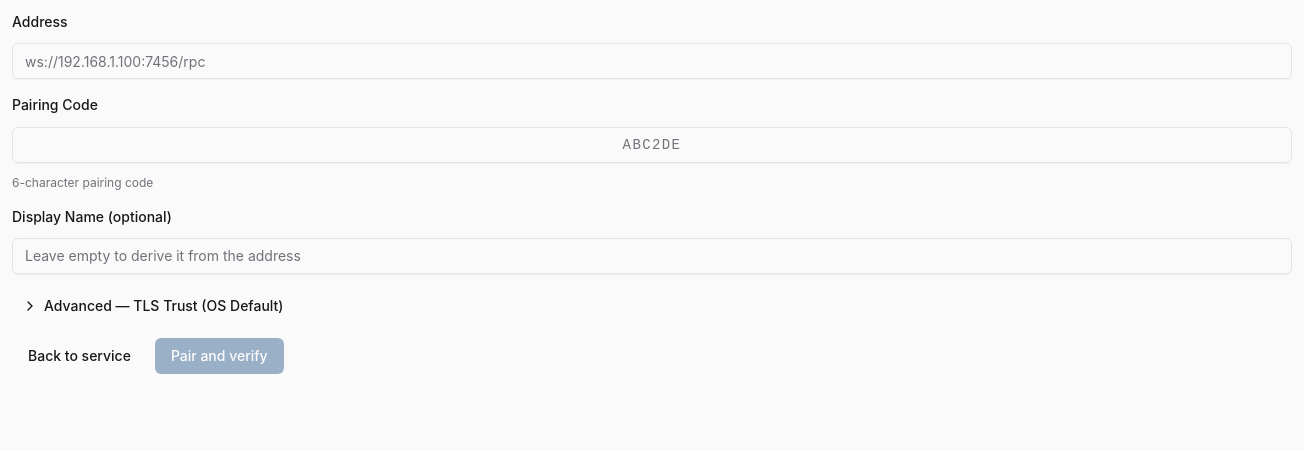
Scenario: DevicePairingForm › shows the address and pairing-code rules inline, and only once something was typed
Expected: the text "6-character pairing code" is shown, top-left (12, 174), bottom-right (153, 190)
Expected: the text "Address must end with /rpc, e.g. ws://192.168.1.100:7456/rpc" is not shown
Type "ws://192.168.1.100:7456" into the field labelled "Address" at (652, 61), box top-left (12, 43), bottom-right (1292, 79)
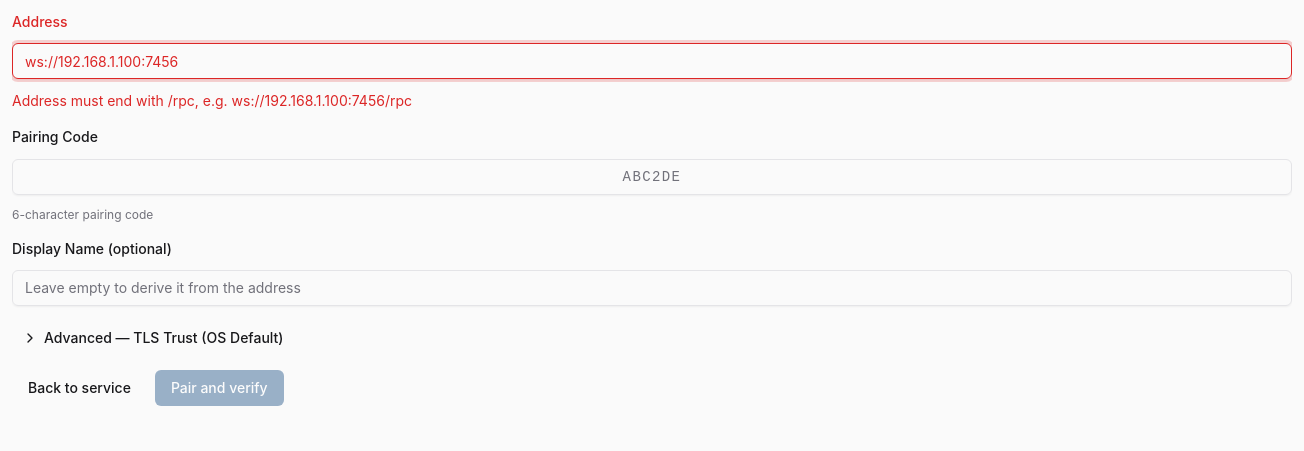
Result: the text "Address must end with /rpc, e.g. ws://192.168.1.100:7456/rpc" is shown at top-left (12, 92), bottom-right (412, 109)
Type "ABCDE" into the field labelled "Pairing Code" at (652, 176), box top-left (12, 158), bottom-right (1292, 194)
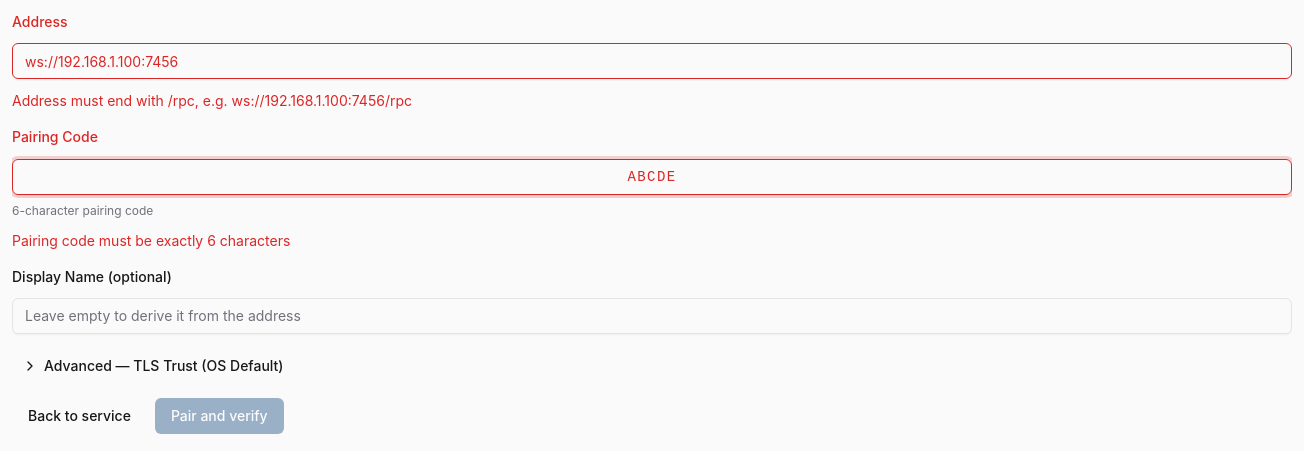
Result: the text "Pairing code must be exactly 6 characters" is shown at top-left (12, 232), bottom-right (290, 248)
